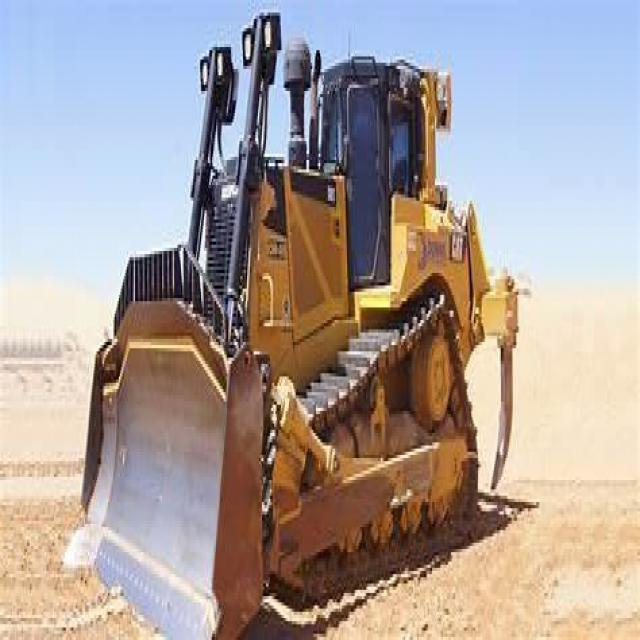Bulldozer: (63, 9, 536, 637)
